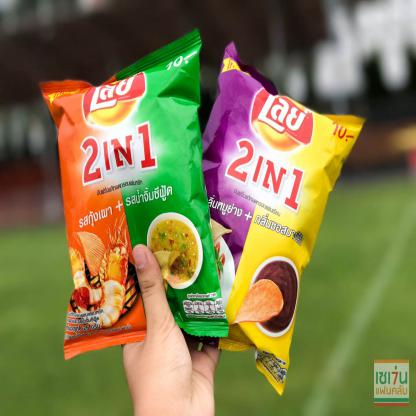potatochip: (158, 39, 371, 393), (40, 30, 232, 360)
